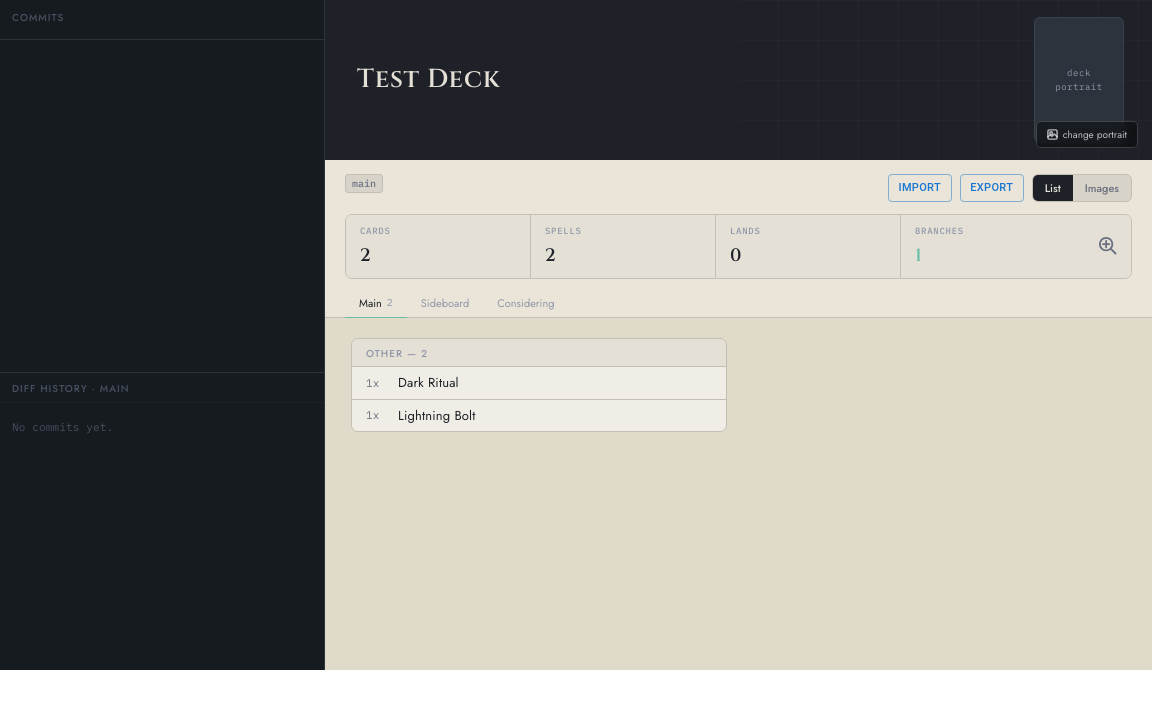
Test: Decklist — pending state management › pending removal is tracked when a card is staged for removal
Expected: the text "Lightning Bolt" is shown, [398,406,476,424]
Hover over the element showing "1x Lightning Bolt" at coordinates (539, 415), box [352,400,726,431]
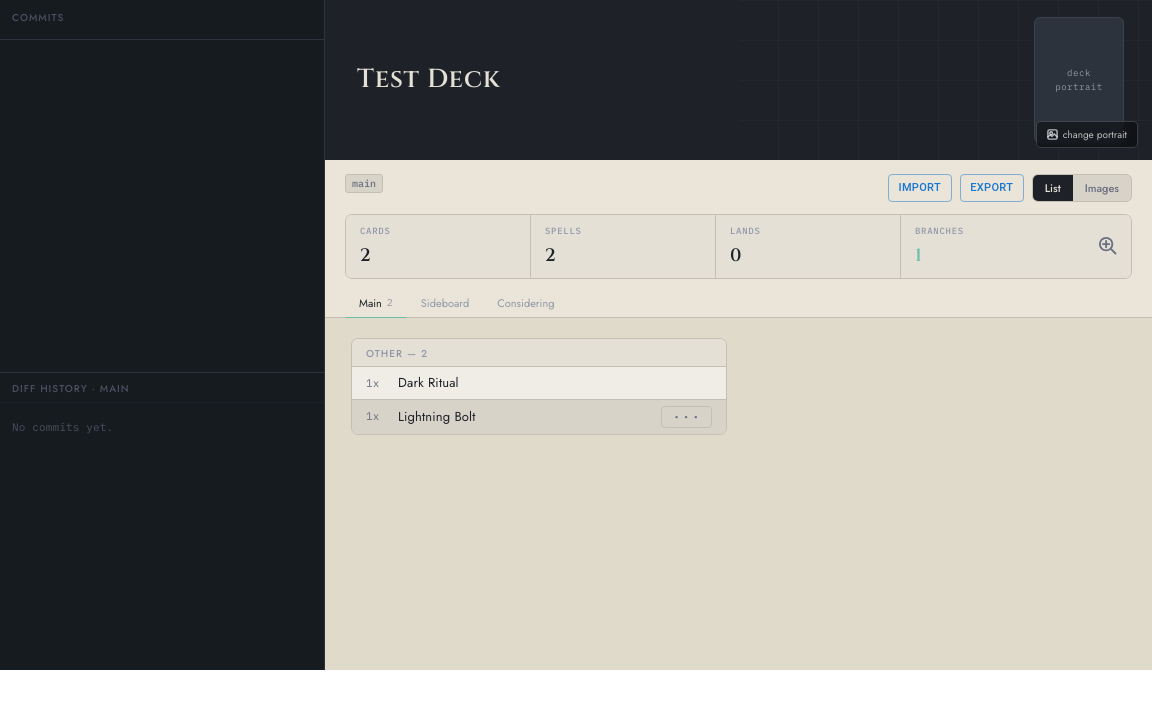
Click the button "···" at coordinates (686, 416), box [661,406,712,428]
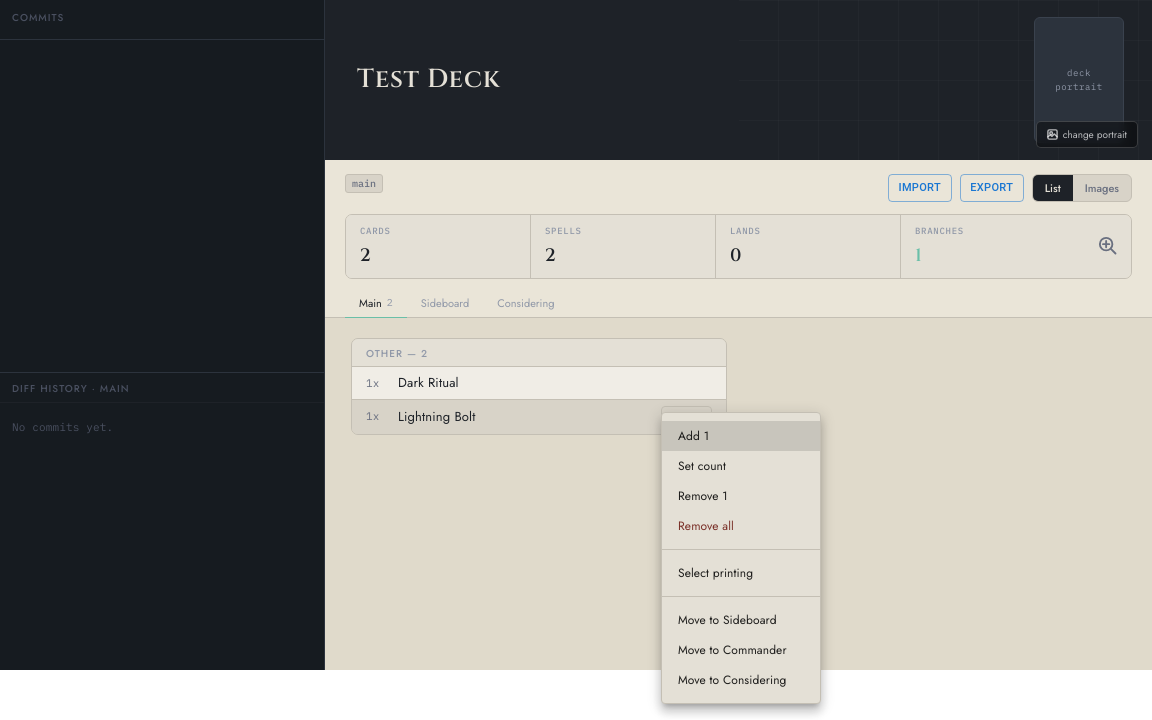
Click the menu item "Remove 1" at coordinates (703, 496), box [678,487,728,505]
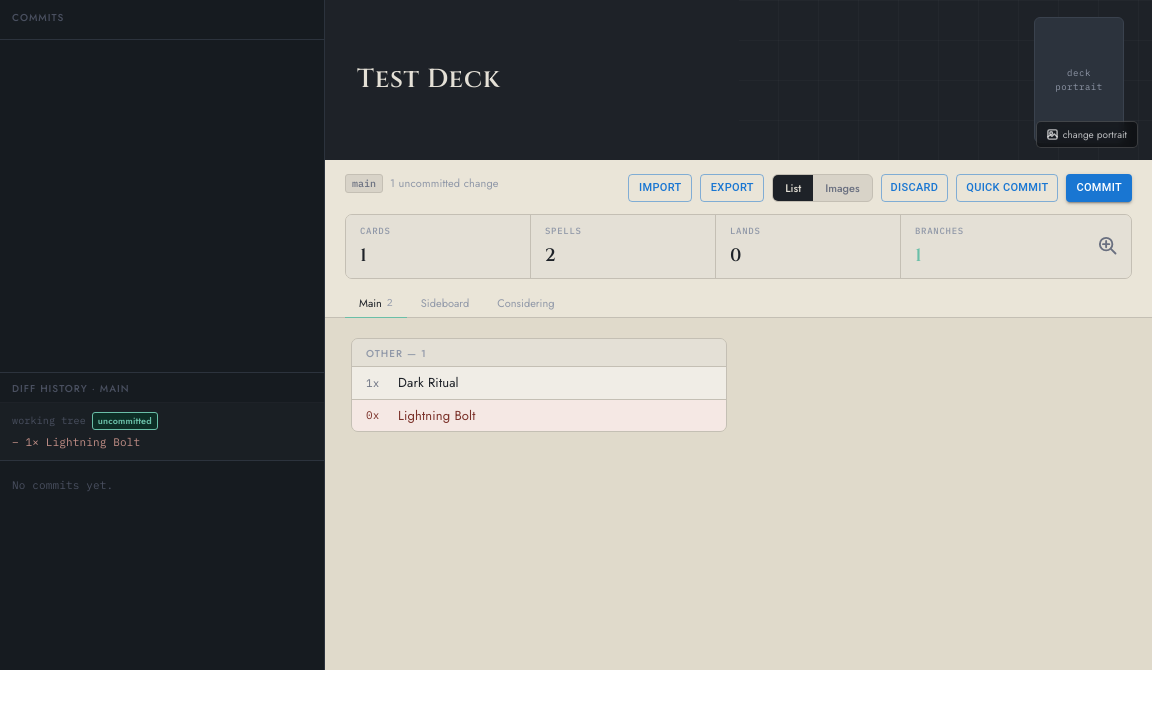
Now the text "1 uncommitted change" is shown, box [390,175,499,192]
